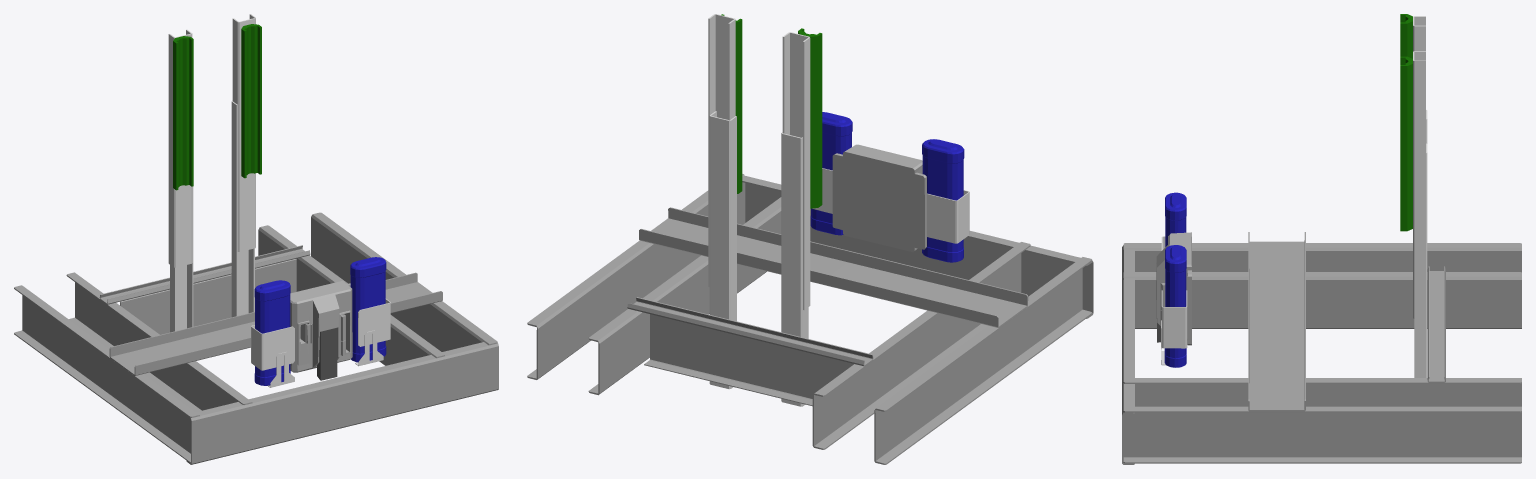
Rendered from Luigi_Chassis1.fbx.
The picture shows the model from 3 angles, left to right: view 1: azimuth 30°, elevation 25°; view 2: azimuth 150°, elevation 25°; view 3: azimuth 270°, elevation 25°; orthographic projection. The views are drawn at different scales.
Visible parts, largest first — view 1: Chassis, LiftBase, LiftBase_sliders, Batteries, Cortex, Cortex_Holsters, VexNet; view 2: Chassis, LiftBase, Cortex, Batteries, LiftBase_sliders, Cortex_Holsters; view 3: Chassis, LiftBase, LiftBase_sliders, Batteries, Cortex, Cortex_Holsters.
Part boxes in pixels (bbox=[...]): Chassis: bbox=[14, 212, 498, 464]; LiftBase: bbox=[168, 14, 255, 332]; LiftBase_sliders: bbox=[173, 24, 261, 190]; Batteries: bbox=[254, 257, 386, 385]; Cortex: bbox=[290, 280, 352, 372]; Cortex_Holsters: bbox=[251, 298, 390, 387]; VexNet: bbox=[317, 327, 337, 380]; Chassis: bbox=[527, 174, 1093, 464]; LiftBase: bbox=[708, 14, 810, 406]; Cortex: bbox=[832, 144, 926, 252]; Batteries: bbox=[810, 112, 964, 262]; LiftBase_sliders: bbox=[721, 14, 822, 208]; Cortex_Holsters: bbox=[812, 168, 969, 243]; Chassis: bbox=[1122, 232, 1521, 464]; LiftBase: bbox=[1413, 16, 1427, 377]; LiftBase_sliders: bbox=[1400, 14, 1412, 231]; Batteries: bbox=[1164, 192, 1186, 367]; Cortex: bbox=[1156, 232, 1191, 345]; Cortex_Holsters: bbox=[1161, 236, 1187, 365].
Bounding box in the file's own units: 44.49 × 43.18 × 44.63.
